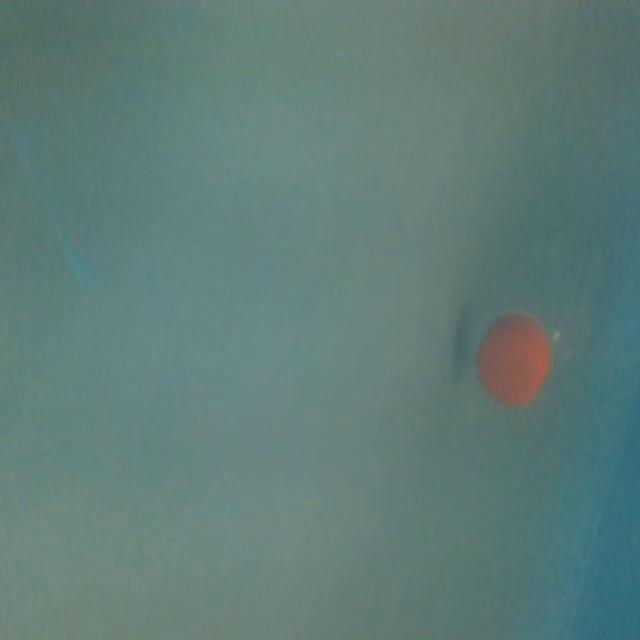plastic bottle: (473, 194, 627, 418)
